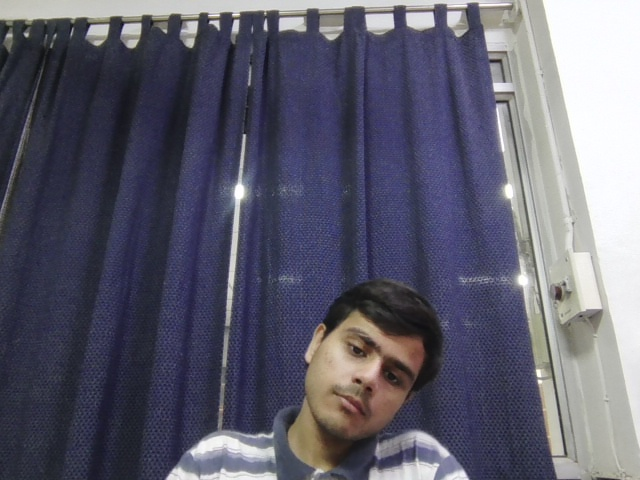face: (308, 282, 443, 436)
